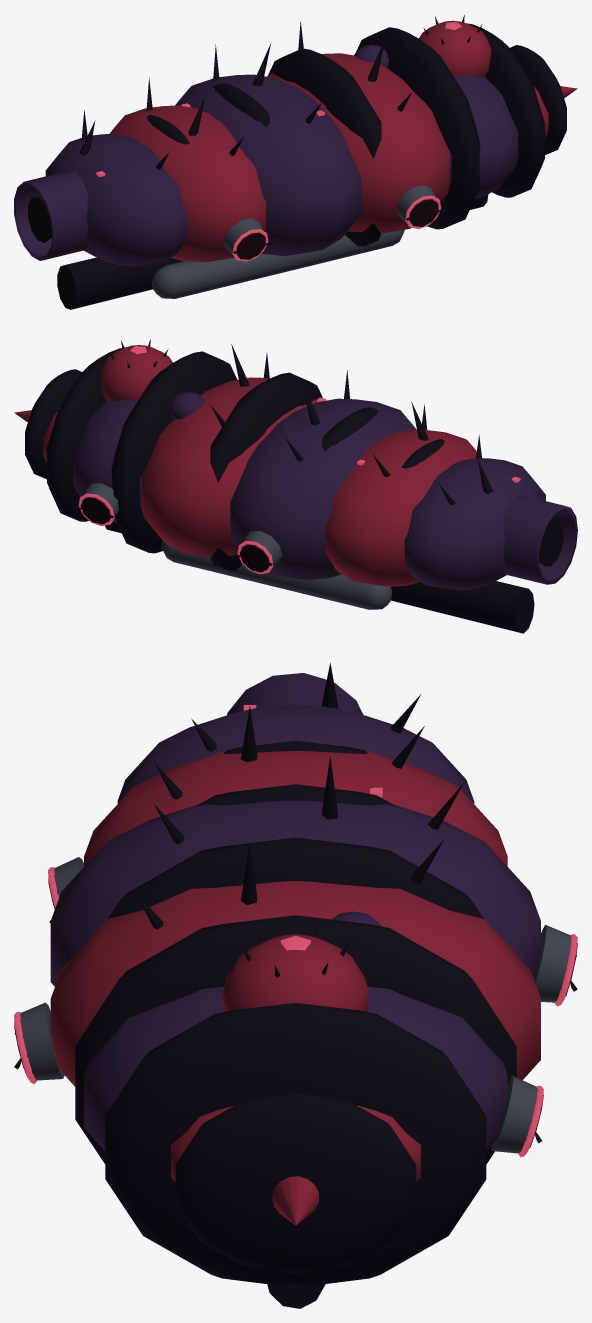
File: verger-directorate.glb
3 renders of one model, top to bottom at view 1: azimuth 30°, elevation 25°; view 2: azimuth 150°, elevation 25°; view 3: azimuth 270°, elevation 25°, orthographic. The views are drawn at different scales.
Parts seen in each view (by area): view 1: tergite_2, tergite_0, tergite_1, tergite_3, tergite_seam_3, ballast_tank_0, tergite_seam_2, tergite_seam_4, drive_duct, tergite_4, keel, dome (+9 smaller); view 2: tergite_2, tergite_1, tergite_3, tergite_0, tergite_seam_3, tergite_seam_2, drive_duct, keel, tergite_seam_4, ballast_tank_1, tergite_4, dome (+9 smaller); view 3: tergite_seam_4, tergite_seam_5, tergite_2, tergite_3, tergite_seam_3, tergite_1, tergite_4, tergite_seam_2, tergite_0, dome, drive_duct, tergite_seam_1 (+7 smaller).
Part boxes in pixels (bbox=[...]): tergite_2: bbox=[175, 74, 361, 256]; tergite_0: bbox=[45, 134, 187, 266]; tergite_1: bbox=[109, 105, 265, 262]; tergite_3: bbox=[268, 53, 450, 233]; tergite_seam_3: bbox=[355, 27, 480, 229]; ballast_tank_0: bbox=[152, 229, 404, 298]; tergite_seam_2: bbox=[267, 48, 381, 246]; tergite_seam_4: bbox=[467, 23, 544, 197]; drive_duct: bbox=[14, 171, 88, 260]; tergite_4: bbox=[450, 75, 518, 198]; keel: bbox=[57, 194, 488, 309]; dome: bbox=[419, 20, 491, 77]; tergite_2: bbox=[230, 398, 416, 580]; tergite_1: bbox=[325, 429, 476, 586]; tergite_3: bbox=[141, 377, 320, 557]; tergite_0: bbox=[404, 458, 545, 590]; tergite_seam_3: bbox=[111, 351, 237, 553]; tergite_seam_2: bbox=[210, 372, 322, 571]; drive_duct: bbox=[503, 495, 577, 584]; keel: bbox=[105, 522, 534, 633]; tergite_seam_4: bbox=[47, 348, 122, 521]; ballast_tank_1: bbox=[161, 540, 392, 609]; tergite_4: bbox=[73, 399, 141, 522]; dome: bbox=[100, 345, 172, 401]; tergite_seam_4: bbox=[105, 1003, 486, 1287]; tergite_seam_5: bbox=[175, 1093, 416, 1272]; tergite_2: bbox=[50, 800, 540, 986]; tergite_3: bbox=[50, 881, 540, 1086]; tergite_seam_3: bbox=[75, 915, 516, 1164]; tergite_1: bbox=[84, 743, 507, 866]; tergite_4: bbox=[84, 986, 507, 1150]; tergite_seam_2: bbox=[108, 837, 483, 918]; tergite_0: bbox=[117, 704, 474, 803]; dome: bbox=[223, 934, 368, 1012]; drive_duct: bbox=[227, 673, 363, 715]; tergite_seam_1: bbox=[196, 784, 395, 806].
Size of the model in its own units: 100 by 36.48 by 49.07.
